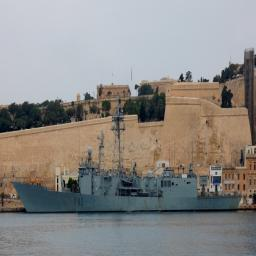Fragata: (11, 91, 244, 218)
